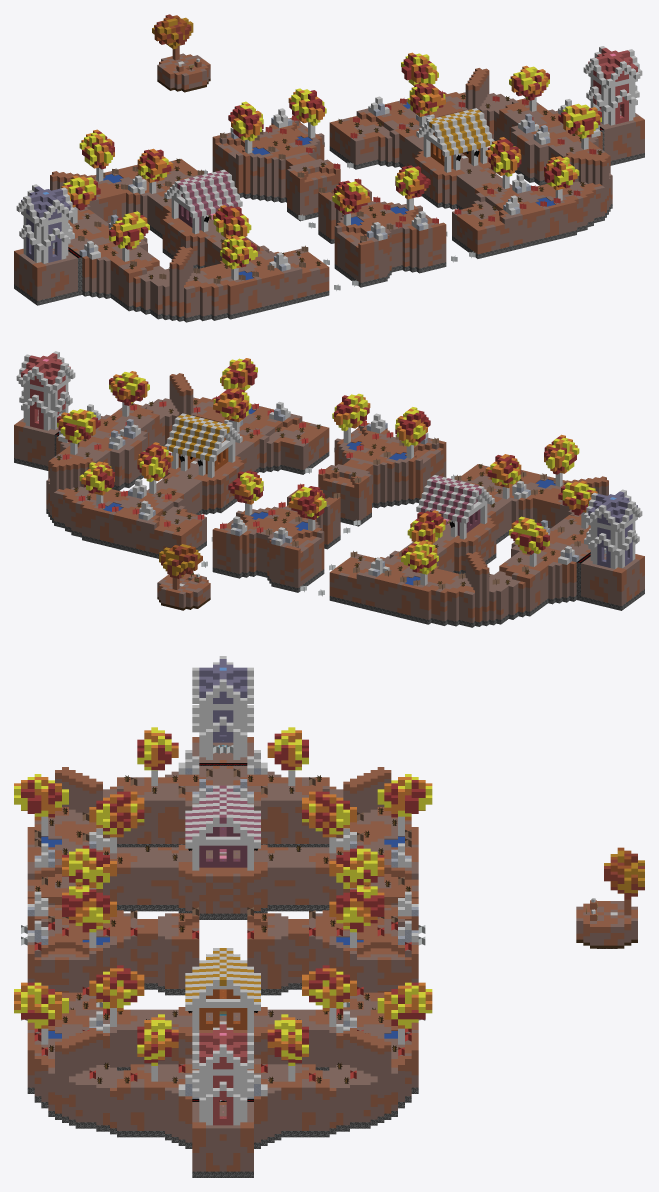
File: minecraft.obj
3 views of the same model, one above another, from view 1: azimuth 30°, elevation 25°; view 2: azimuth 150°, elevation 25°; view 3: azimuth 270°, elevation 25° (orthographic). The views are drawn at different scales.
Bounding box in the file's own units: 135 × 21 × 92.
